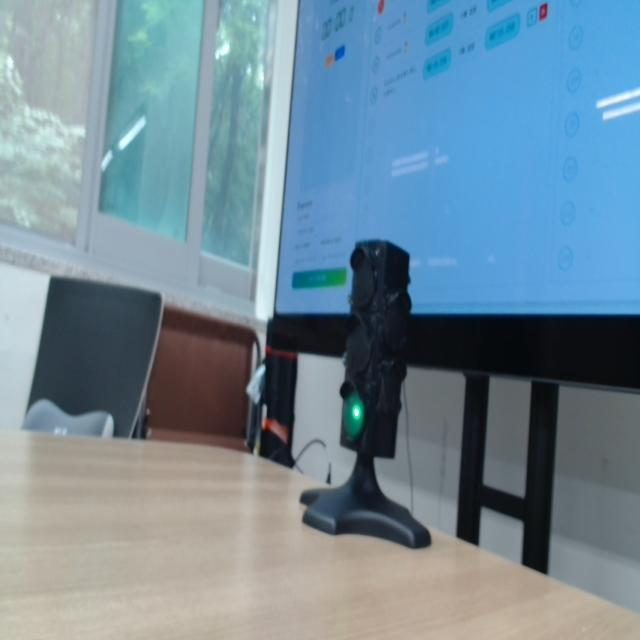green_light: (342, 391, 364, 440)
